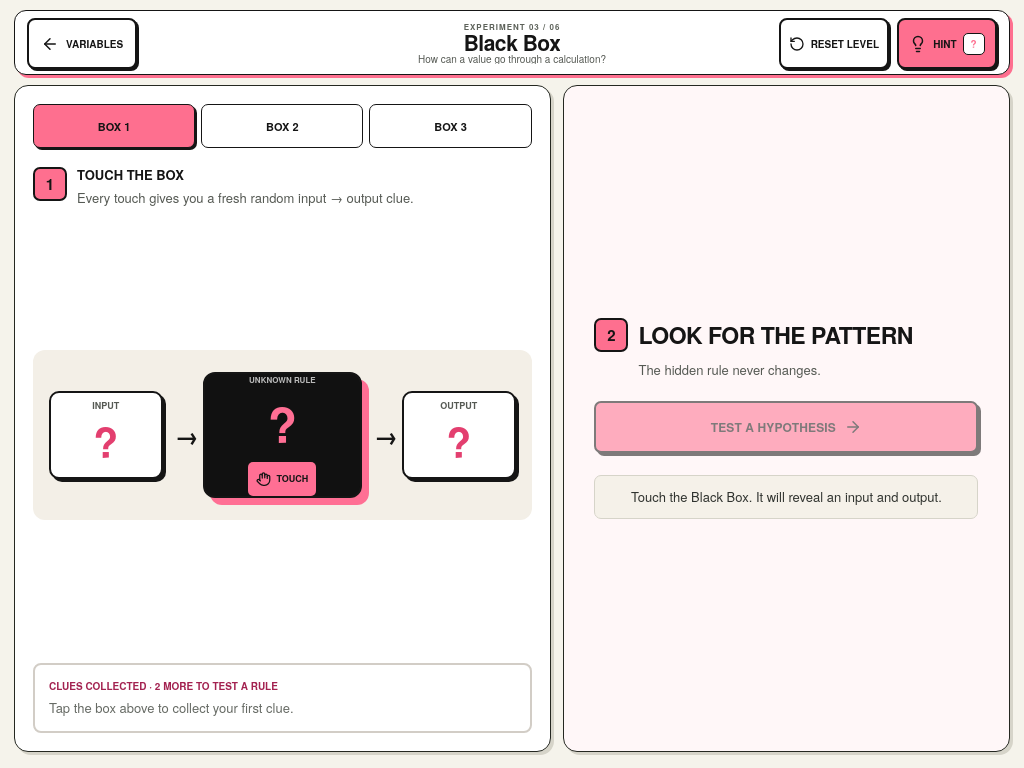
Black Box activity › puts a clean physical box between random numbers and keeps clues only below it
The width and height of the screenshot is (1024, 768).
Expected: the element showing "UNKNOWN RULE ? TOUCH" is shown, [203, 372, 362, 498]
Click the button with aria-label "touch the black box" at (282, 435), box [33, 350, 532, 520]
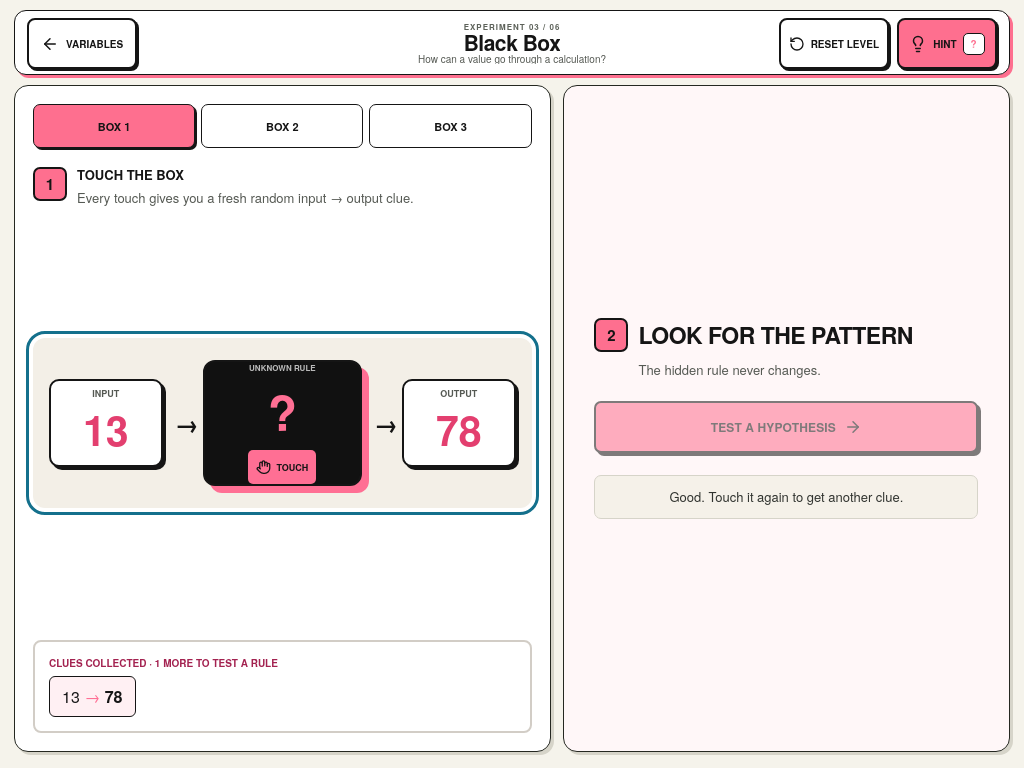
Click the button with aria-label "touch the black box" at (282, 423), box [33, 338, 532, 508]
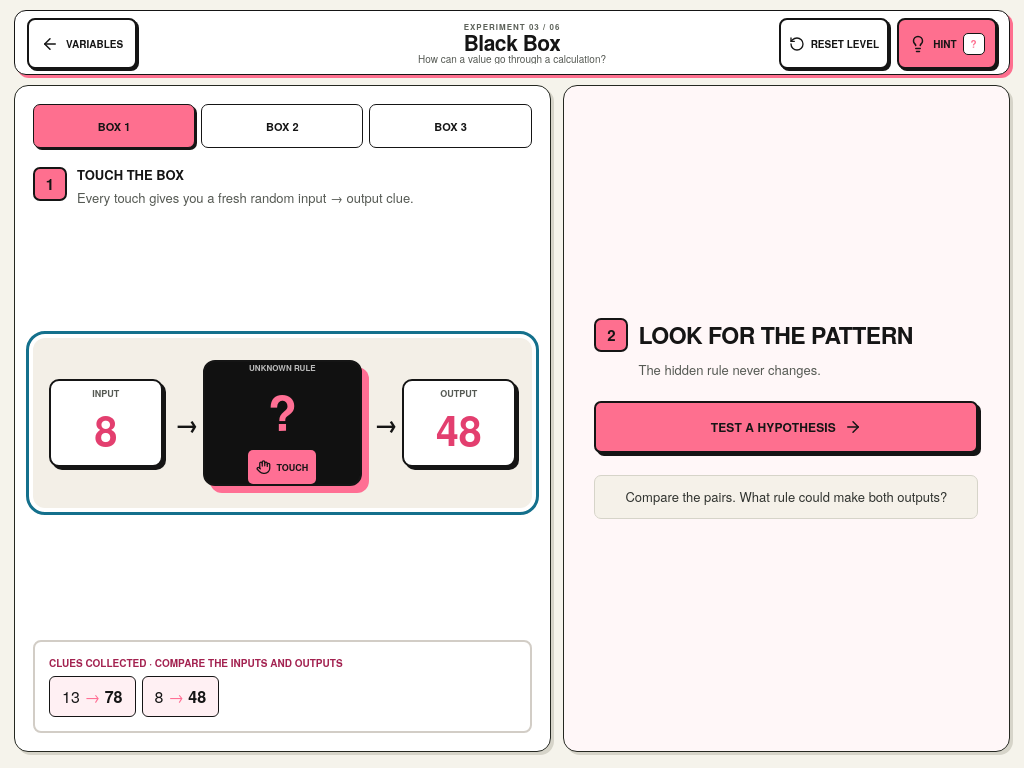
Expected: the button "TEST A HYPOTHESIS" is enabled, [594, 401, 978, 453]
